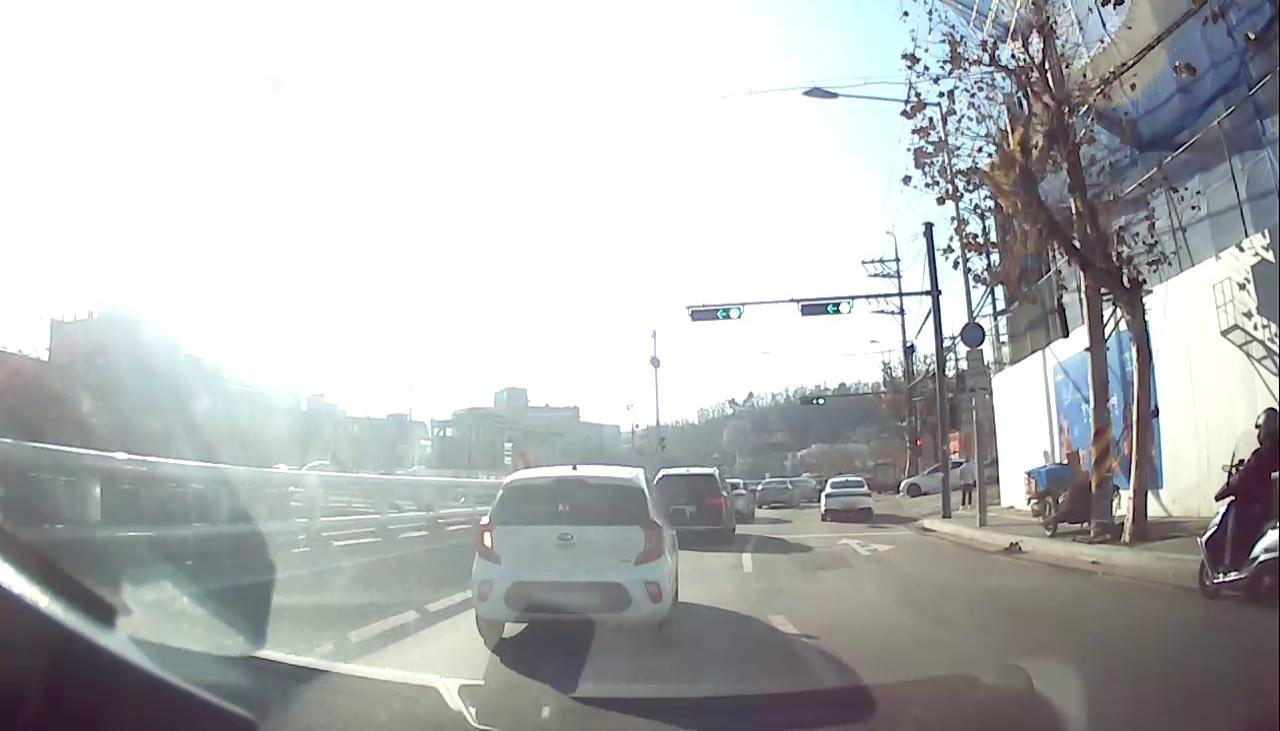Green Light: (838, 301, 851, 314), (729, 308, 740, 319), (818, 398, 825, 405)
Left turn: (825, 301, 838, 315), (716, 308, 727, 320), (812, 398, 818, 405)
